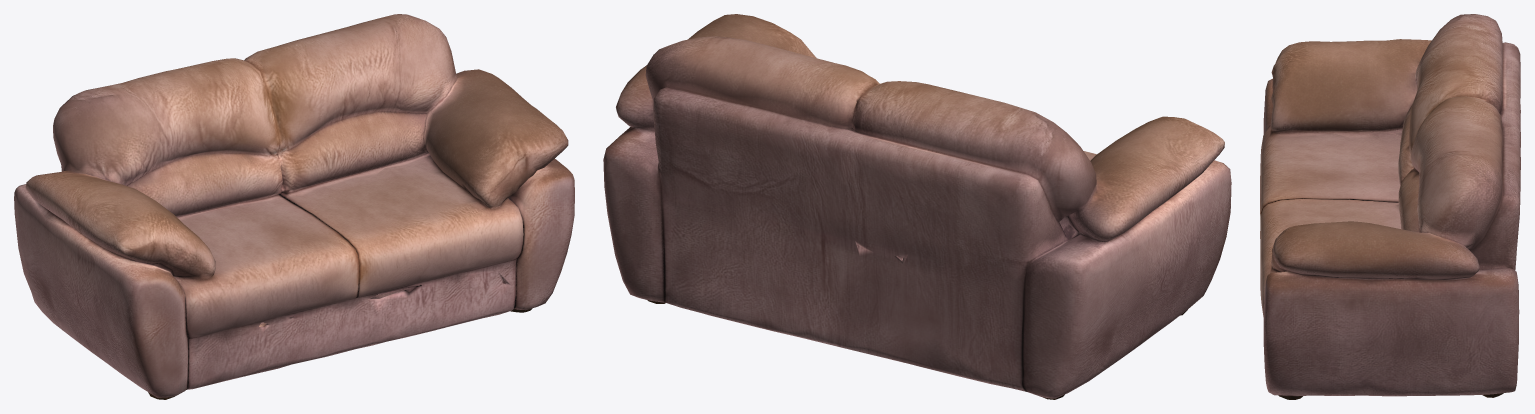
File: sofa.glb
The picture shows the model from 3 angles, left to right: view 1: azimuth 30°, elevation 25°; view 2: azimuth 150°, elevation 25°; view 3: azimuth 270°, elevation 25°; orthographic projection. The views are drawn at different scales.
Visible parts, largest first — view 1: Sofa; view 2: Sofa; view 3: Sofa.
Boxes of the visible parts, box(x1,y1,x2,y2) form: Sofa: box(14, 14, 574, 399); Sofa: box(603, 14, 1231, 399); Sofa: box(1260, 14, 1520, 399).
Size of the model in its own units: 1 by 0.4837 by 0.508.
1 material, 1 textured.
